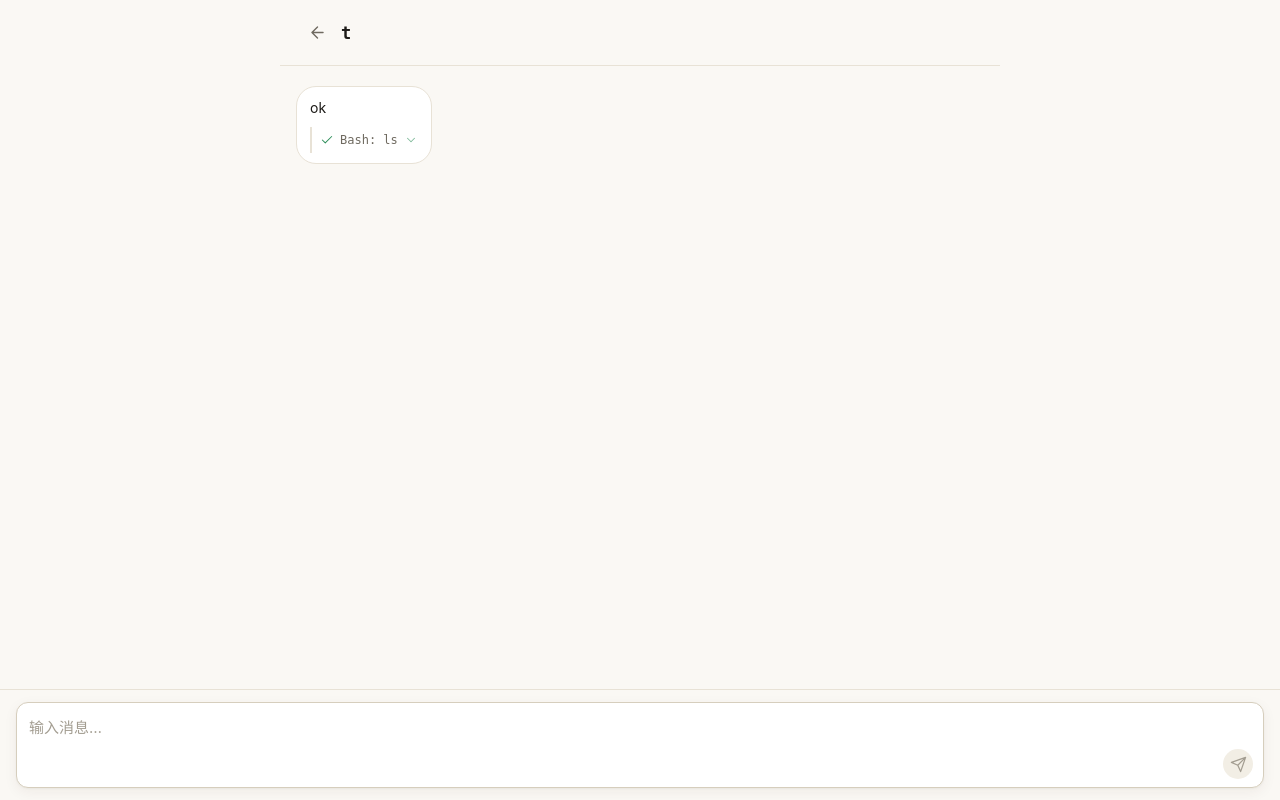
Test: ChatPage - 渲染 › tool_use 块点击展开显示入参+结果
// 点击 head 展开
Click the button with class "block-head" at (369, 140), box [320,131,418,149]
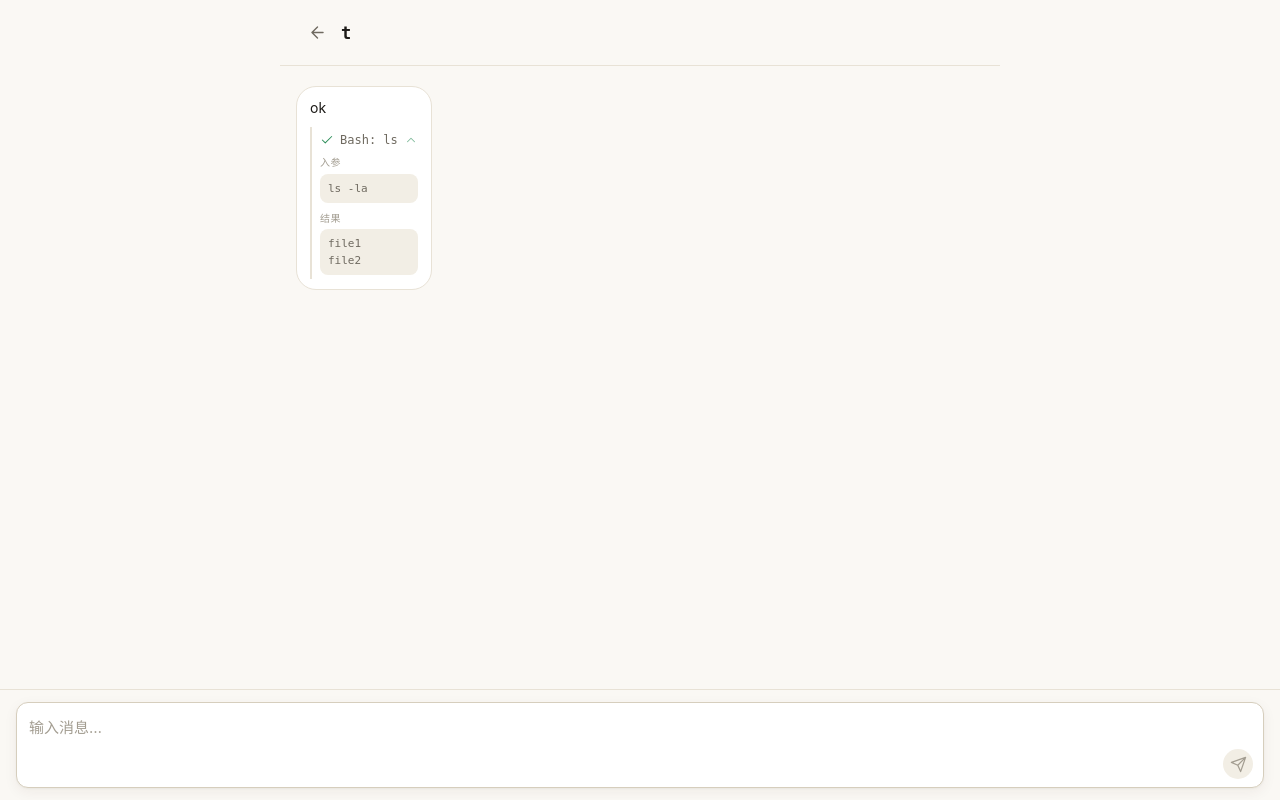
expect the element with class "block-detail" is shown: met, box [320,155,418,275]
expect the text "入参" is shown: met, box [320,157,341,168]
expect the text "结果" is shown: met, box [320,213,341,224]
